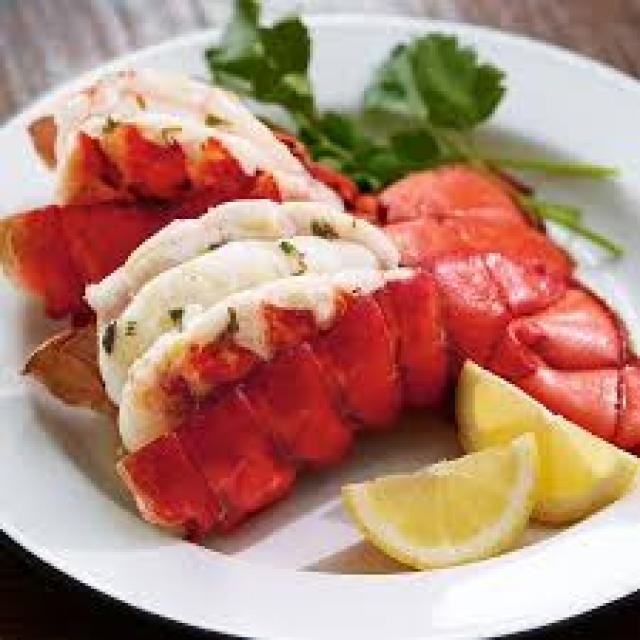Lemon: (344, 433, 539, 569)
Peanut: (107, 186, 626, 391)
